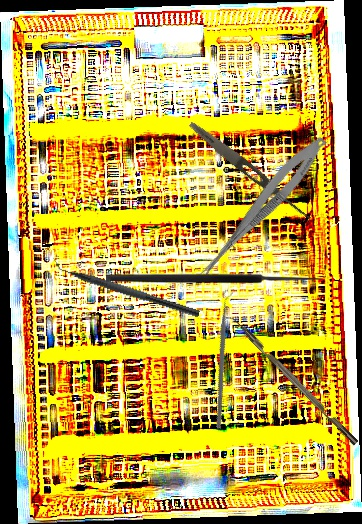Chopper: (220, 309, 359, 452), (162, 291, 290, 430), (48, 254, 204, 318)
Dressing Forceps: (185, 118, 316, 224)
Hook Surgical: (106, 263, 326, 284)
Micro Scissor: (190, 129, 332, 291)
